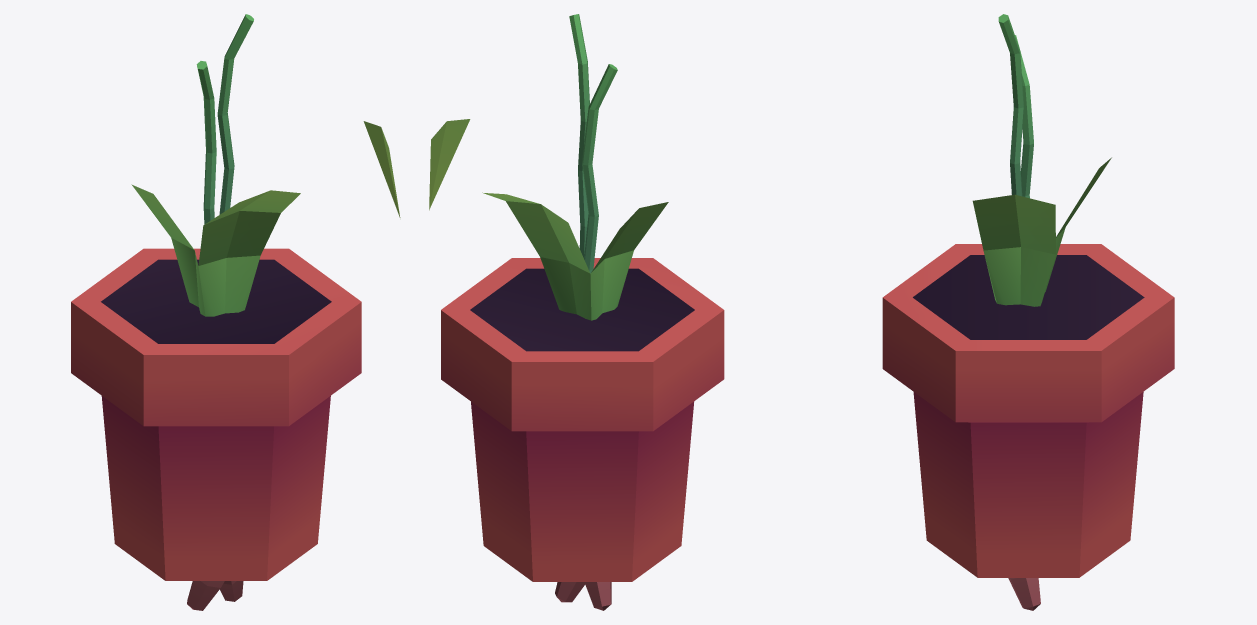
Rendered from cattails-cut.glb.
3 renders of one model, left to right at view 1: azimuth 30°, elevation 25°; view 2: azimuth 150°, elevation 25°; view 3: azimuth 270°, elevation 25°, orthographic. The views are drawn at different scales.
Visible parts, largest first — view 1: Cattails_alt, Cattails_alt_sep88; view 2: Cattails_alt, Cattails_alt_sep88, Cattails_alt_sep87; view 3: Cattails_alt, Cattails_alt_sep87.
Part boxes in pixels (<box>): Cattails_alt: <box>71,14,400,580</box>; Cattails_alt_sep88: <box>187,581,224,610</box>; Cattails_alt: <box>429,14,724,581</box>; Cattails_alt_sep88: <box>584,582,611,610</box>; Cattails_alt_sep87: <box>555,582,584,602</box>; Cattails_alt: <box>882,14,1174,577</box>; Cattails_alt_sep87: <box>1008,578,1040,610</box>.
Bounding box in the file's own units: 2.19 × 3.45 × 2.42.
1 material, 1 textured.
